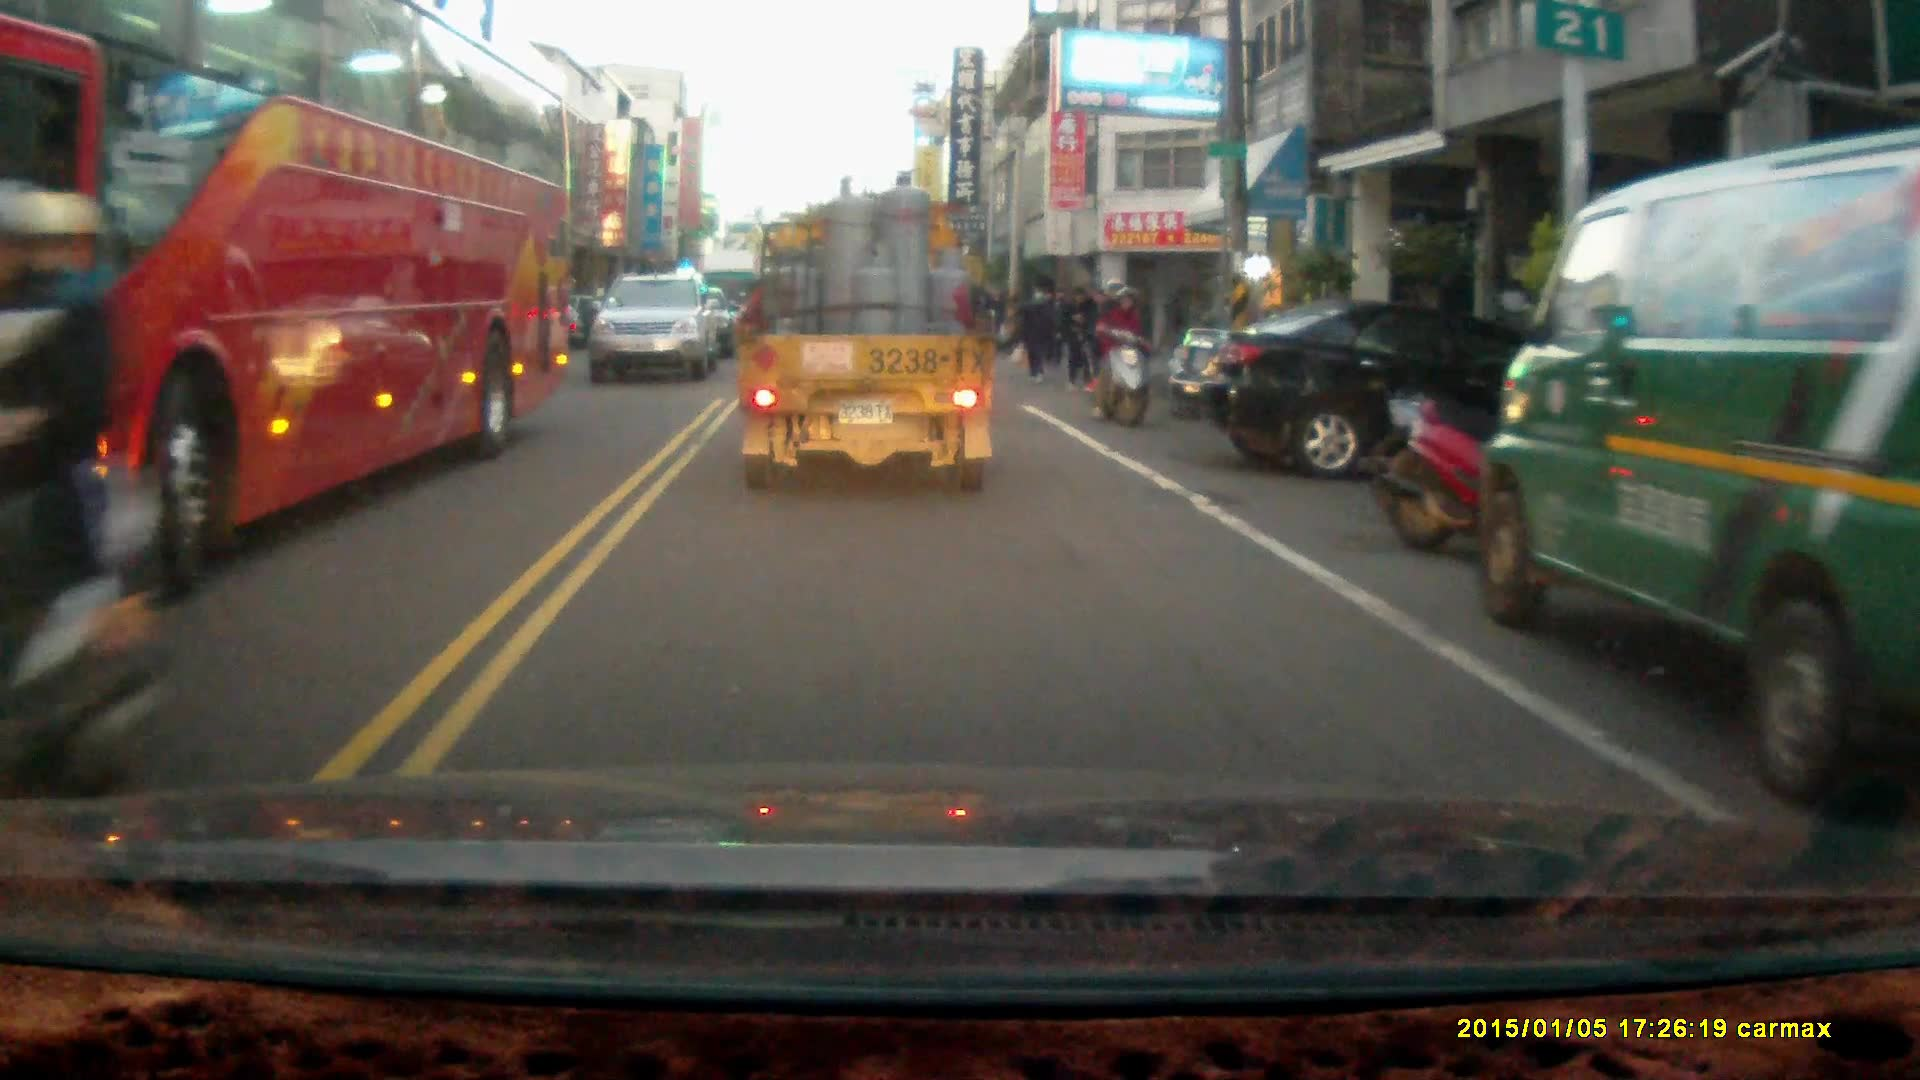pedestrian: (1058, 284, 1097, 393), (1019, 284, 1056, 375)
rider: (0, 173, 172, 875), (1089, 274, 1153, 429)
vehicle: (1, 7, 583, 642), (1473, 129, 1920, 814), (734, 166, 1002, 496), (1172, 301, 1592, 481), (594, 272, 723, 383)
